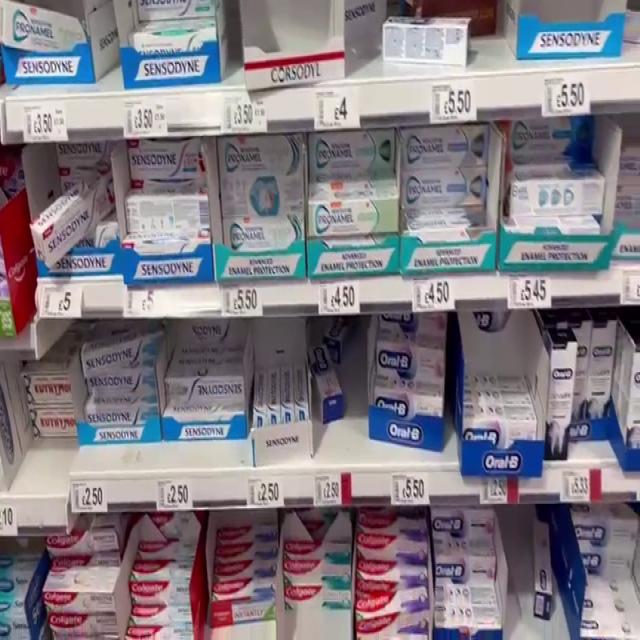Other: (577, 307, 614, 415), (544, 341, 571, 460), (567, 320, 588, 444)
Toothpaste: (38, 173, 120, 272), (395, 114, 497, 183), (211, 130, 310, 193), (117, 3, 220, 60), (124, 133, 220, 194), (0, 3, 87, 69), (380, 9, 475, 68), (512, 164, 607, 223), (304, 195, 405, 247), (314, 124, 400, 180), (154, 359, 248, 409), (85, 325, 168, 378), (43, 572, 120, 625), (122, 193, 216, 236), (426, 504, 501, 554), (401, 171, 498, 205), (437, 572, 499, 625), (210, 539, 282, 582), (356, 508, 433, 547), (215, 217, 312, 247), (438, 547, 507, 587), (351, 566, 434, 599), (375, 349, 447, 386), (77, 381, 162, 412), (211, 557, 284, 593), (310, 342, 346, 409), (355, 541, 430, 573), (269, 547, 350, 576), (286, 561, 358, 593), (49, 524, 124, 554), (132, 584, 195, 619), (137, 556, 201, 589), (355, 593, 436, 619), (283, 582, 353, 608), (210, 583, 279, 609), (253, 368, 276, 440), (277, 364, 297, 440), (127, 617, 194, 636), (268, 369, 283, 448), (294, 352, 308, 432)
